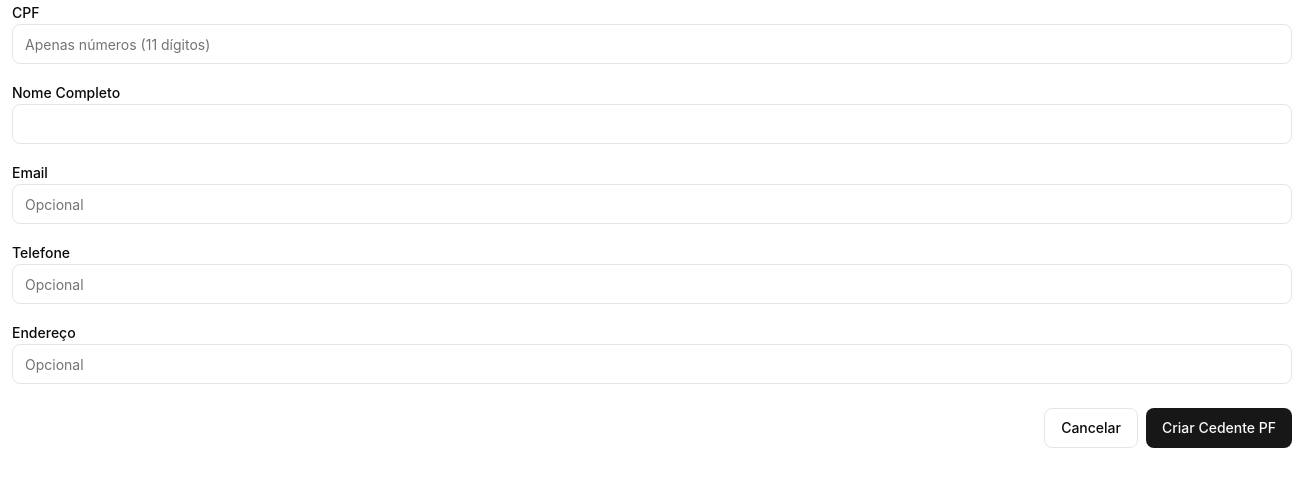
Test case: CedentePfForm › shows CPF format validation error for wrong length
The width and height of the screenshot is (1304, 489).
In the field labelled "CPF": [652, 44] box x1=12 y1=24 x2=1292 y2=64, type "123"
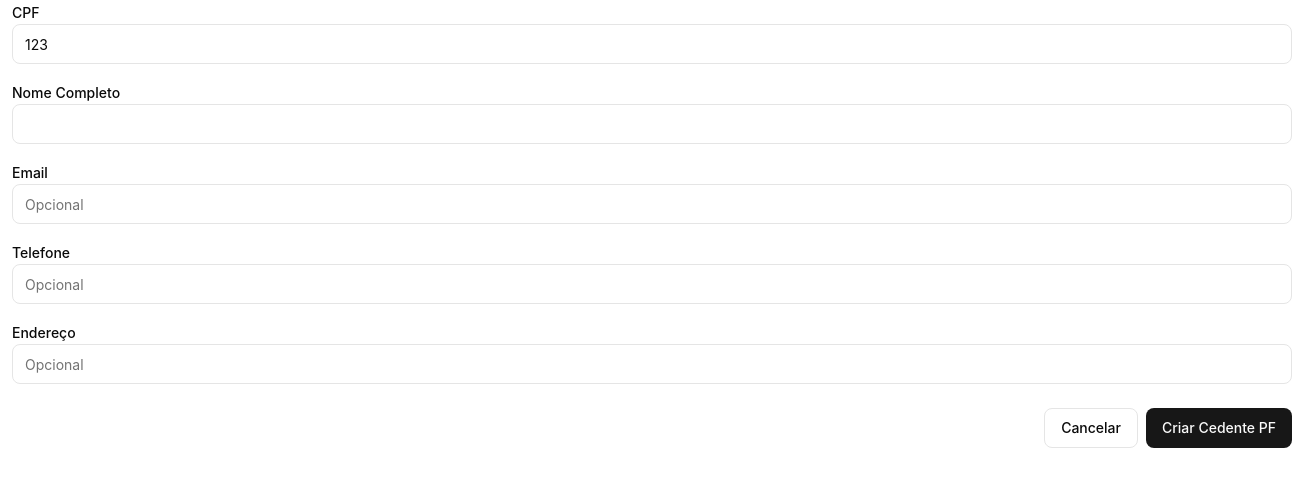
In the field labelled "Nome Completo": [652, 124] box x1=12 y1=104 x2=1292 y2=144, type "Jo"
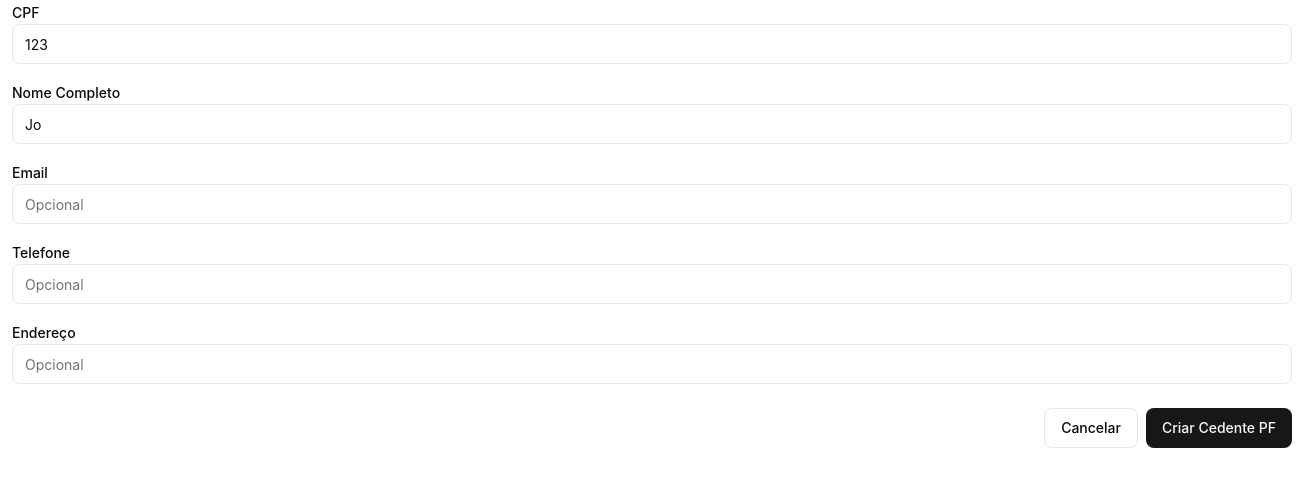
Click the button "Criar Cedente PF": [1219, 428] box x1=1146 y1=408 x2=1292 y2=448
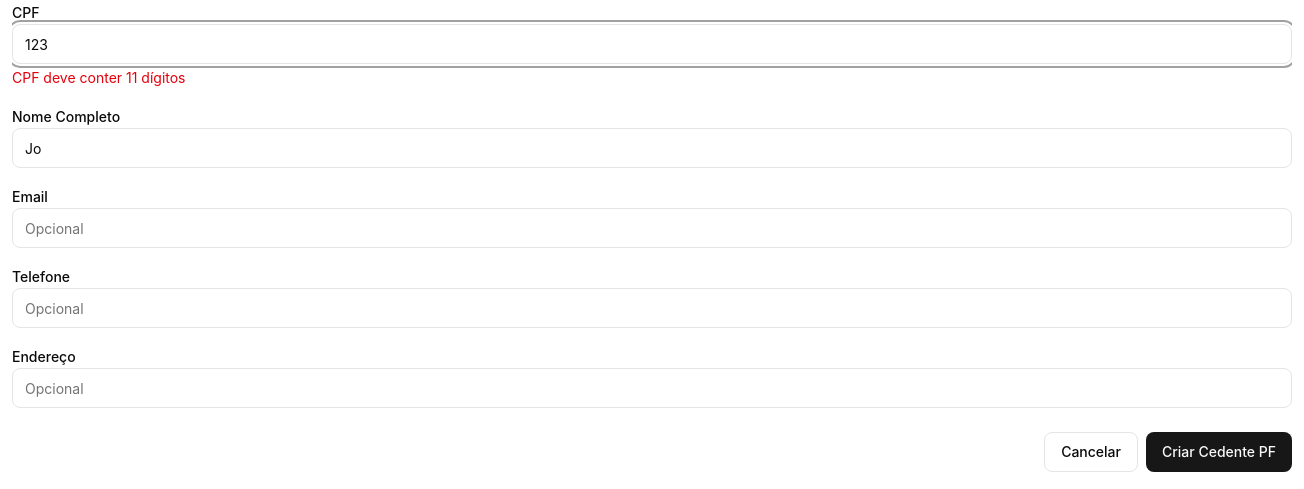
Result: the text "CPF deve conter 11 dígitos" is shown at x1=12 y1=69 x2=186 y2=86
